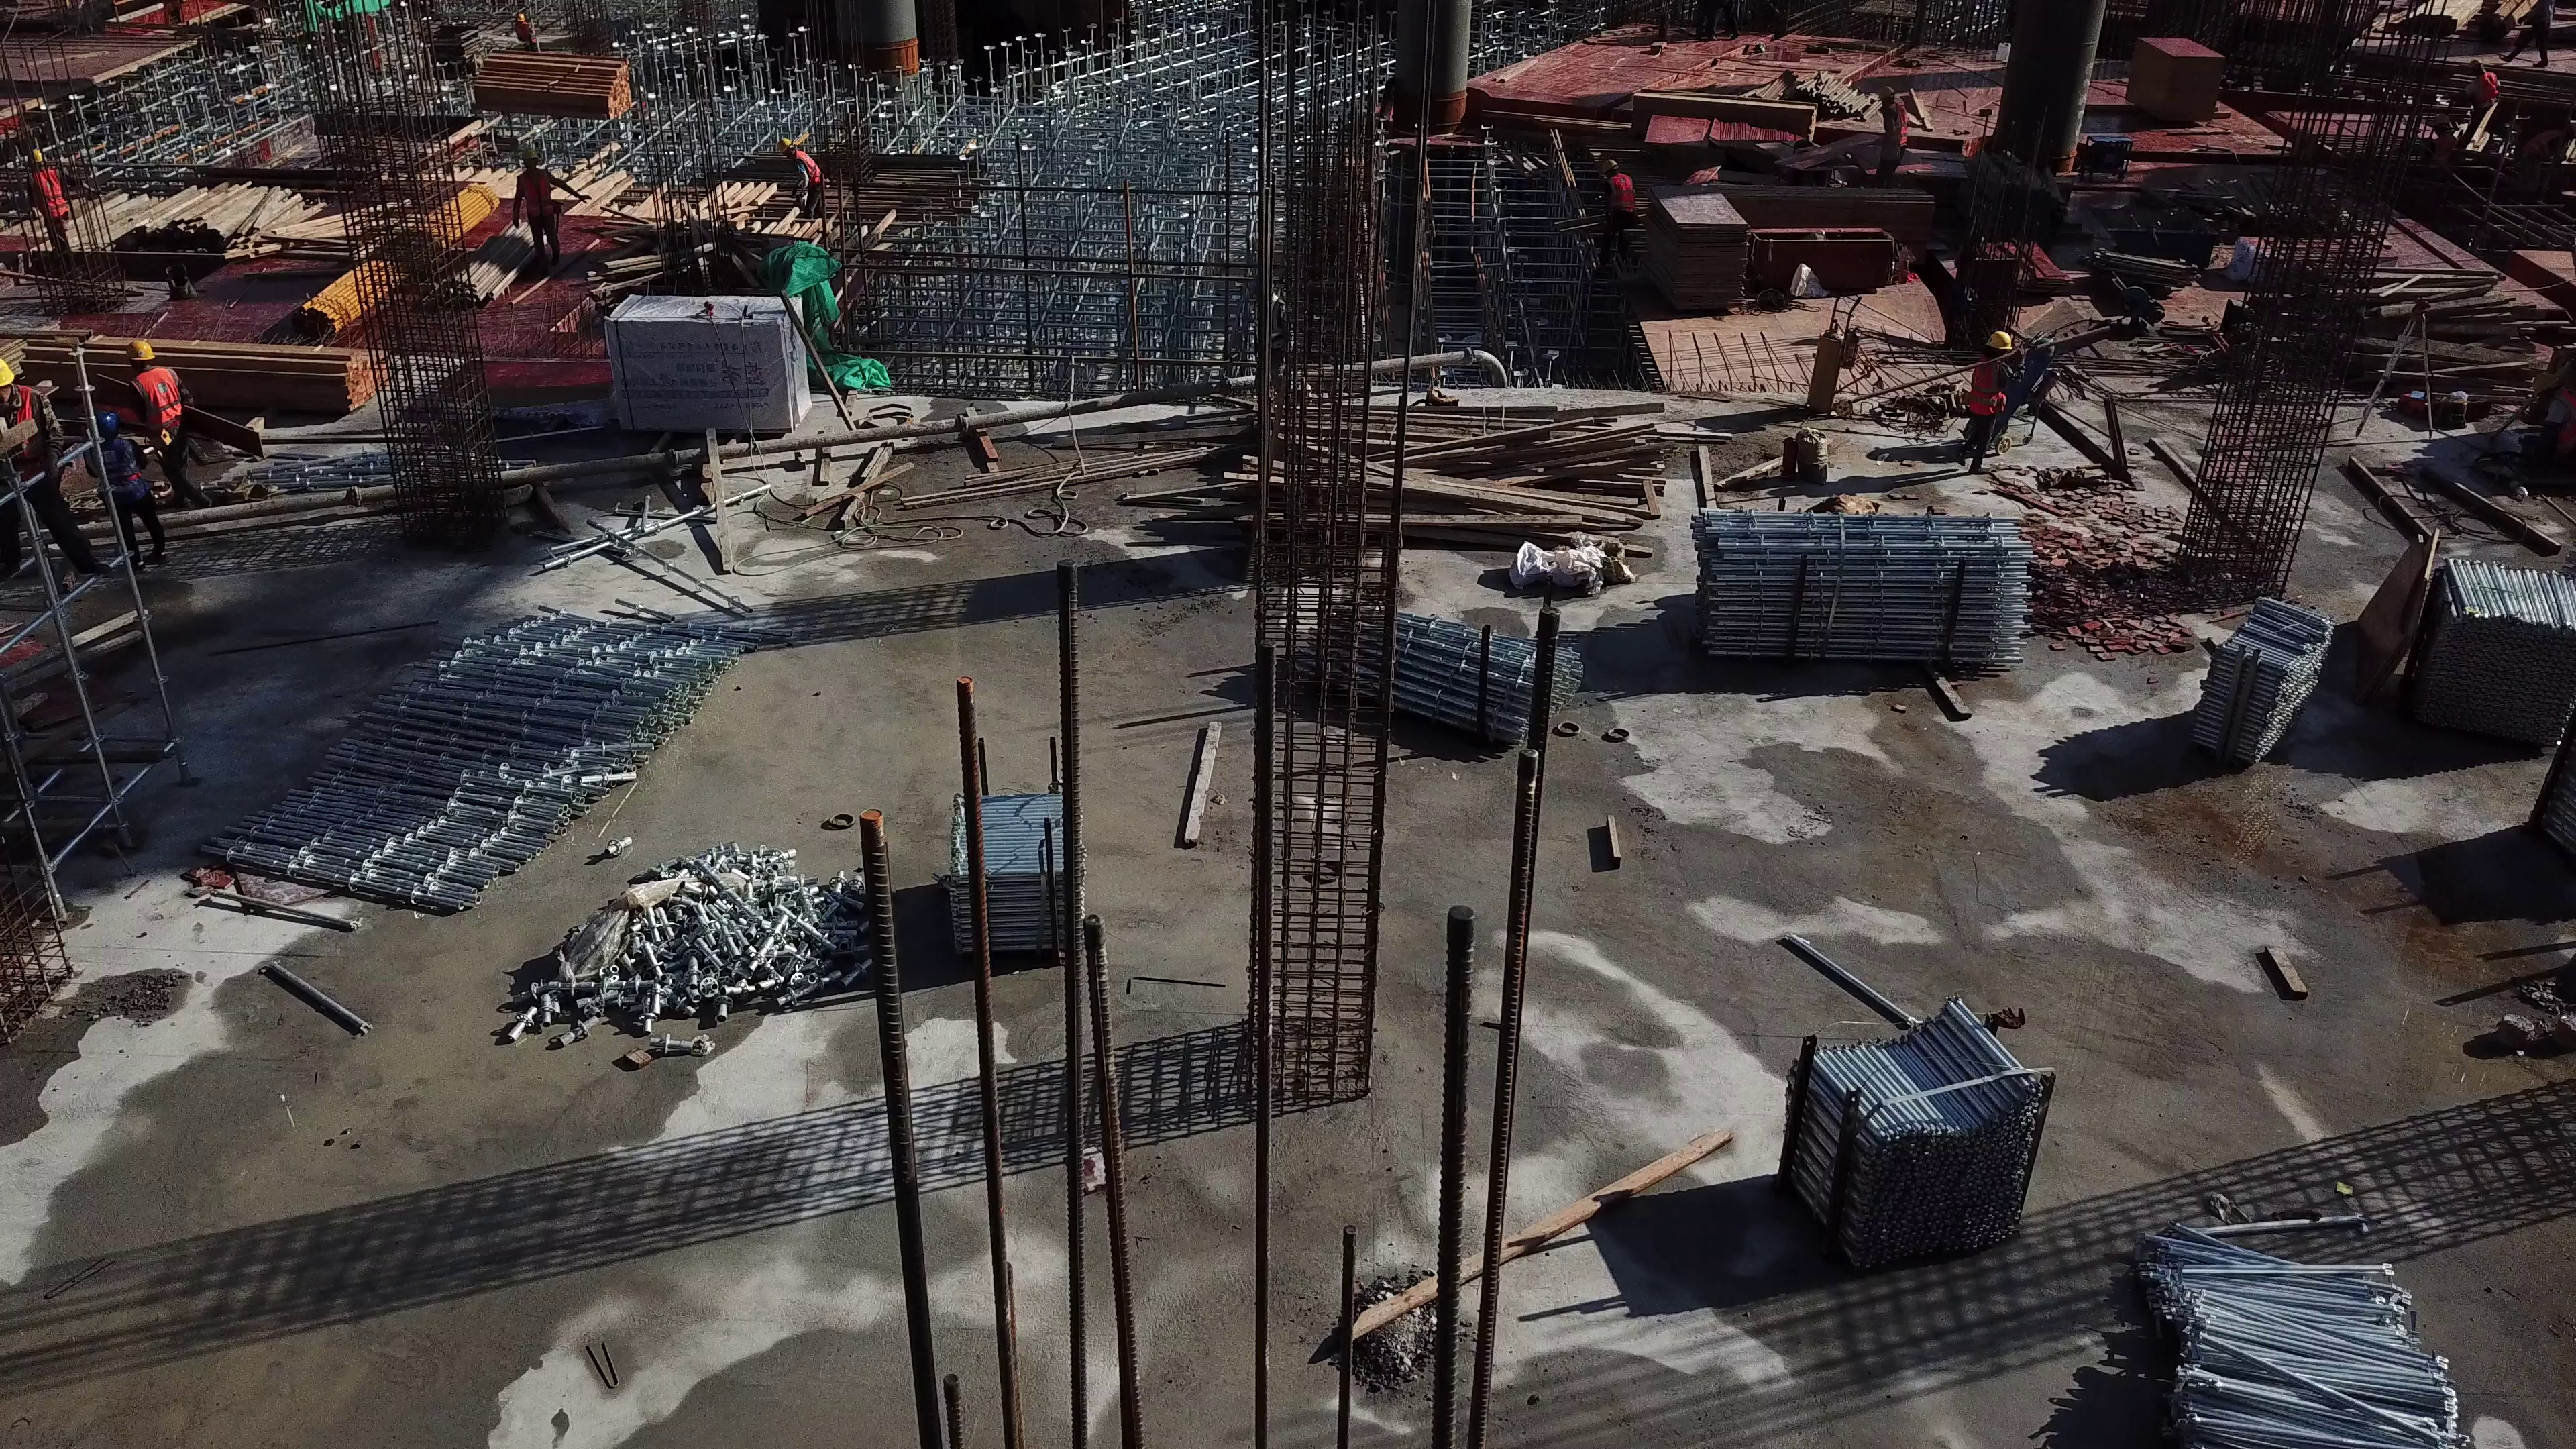board: (1650, 186, 1748, 301), (2125, 34, 2218, 129), (445, 359, 608, 405)
cutter: (1762, 140, 1858, 180), (2110, 289, 2161, 333)
helmet: (95, 411, 118, 441), (128, 336, 150, 362), (1984, 331, 2014, 349), (2534, 371, 2553, 396), (1, 364, 15, 384), (28, 145, 41, 164), (1602, 158, 1616, 171), (778, 135, 788, 152), (1881, 87, 1894, 101), (525, 151, 539, 161), (517, 13, 525, 21)
hopper: (2086, 203, 2215, 270)
person: (1, 354, 105, 584), (129, 338, 209, 511), (90, 413, 168, 559), (511, 150, 592, 278), (1965, 331, 2007, 472), (27, 147, 74, 268), (2530, 366, 2576, 467), (776, 136, 820, 222), (2494, 1, 2551, 68), (1599, 156, 1633, 260), (2467, 59, 2504, 134), (1875, 86, 1904, 178), (511, 13, 535, 50)
scaffold: (201, 612, 750, 894), (2139, 1218, 2459, 1449), (1778, 1006, 2056, 1262), (1685, 498, 2037, 669), (1303, 606, 1567, 742), (936, 788, 1081, 963), (2410, 558, 2571, 706), (2197, 600, 2308, 757)
vest: (99, 440, 150, 500), (133, 366, 182, 427), (9, 384, 34, 457), (1970, 362, 2001, 419), (519, 170, 554, 218), (34, 169, 66, 220), (2555, 394, 2576, 456), (1885, 97, 1905, 147), (1611, 172, 1633, 216), (796, 151, 821, 189), (2477, 72, 2495, 101)
wood: (23, 331, 383, 407), (1711, 183, 1930, 230), (471, 53, 629, 117), (1633, 92, 1815, 138), (2385, 2, 2477, 31)
